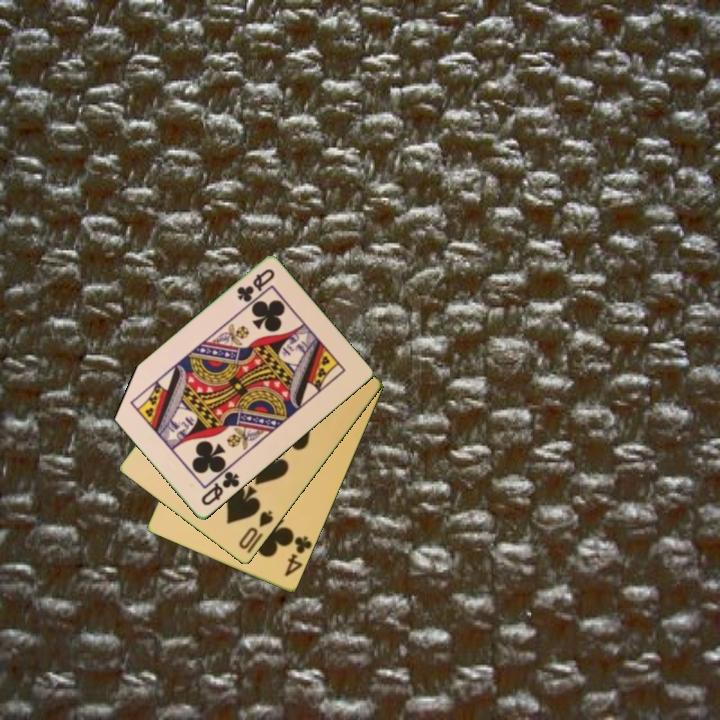10s: (235, 507, 276, 553)
4c: (281, 532, 314, 580)
Qc: (197, 468, 243, 509), (233, 265, 278, 306)
